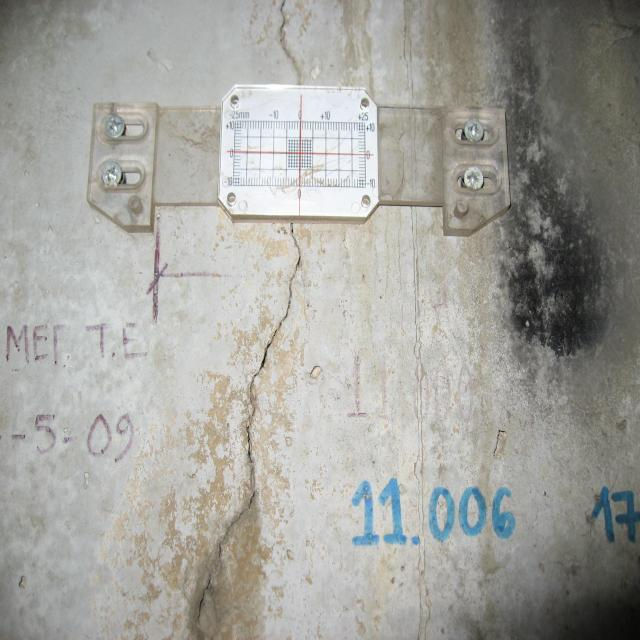concrete spalling: (492, 428, 508, 460)
diagonal crack: (194, 220, 303, 640)
vertical crack: (278, 0, 302, 84)
